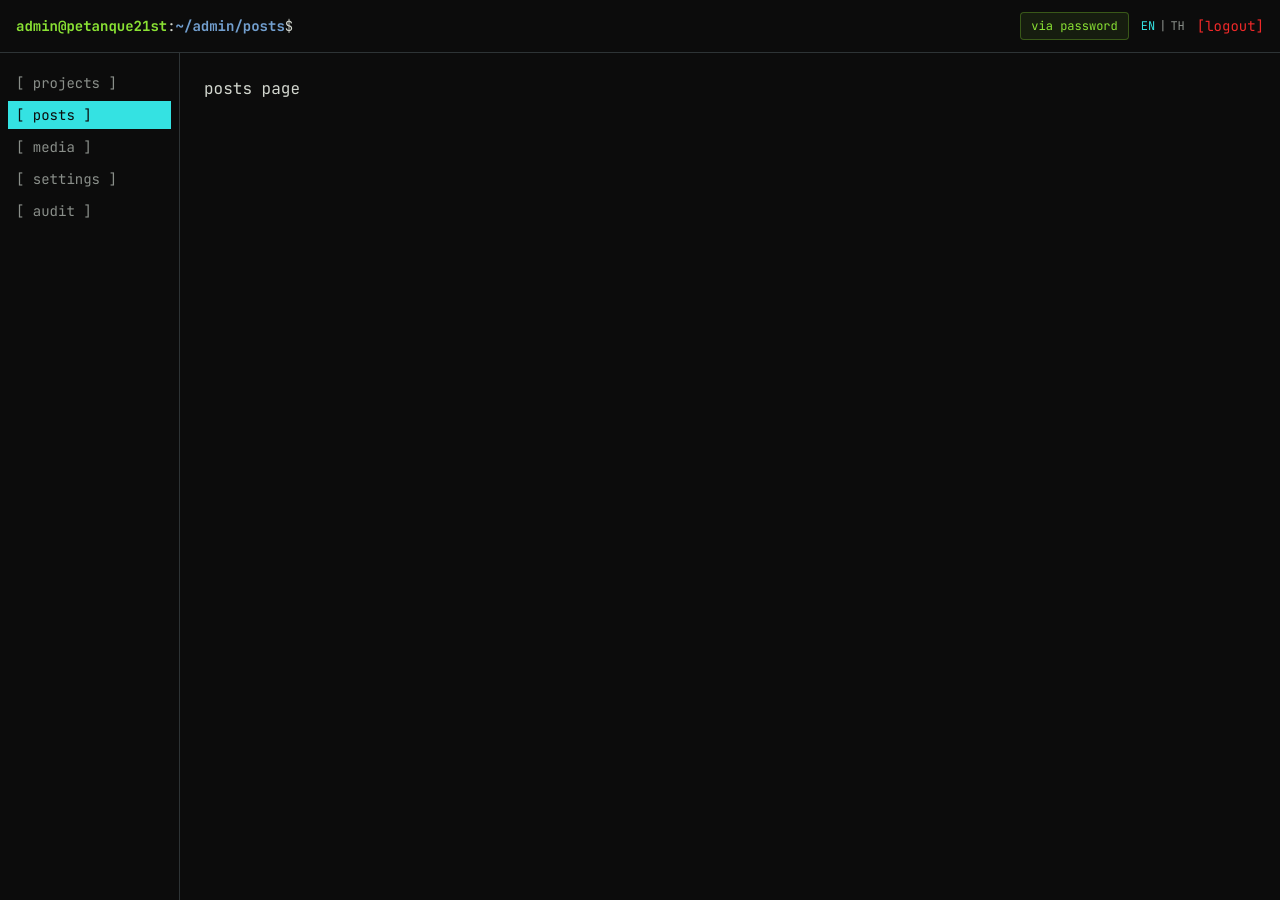
Test: stays in place and shows an error when logout fails server-side
This screenshot has width=1280, height=900.
Click the button "[logout]". click: (1230, 26)
box: [1197,16,1264,36]
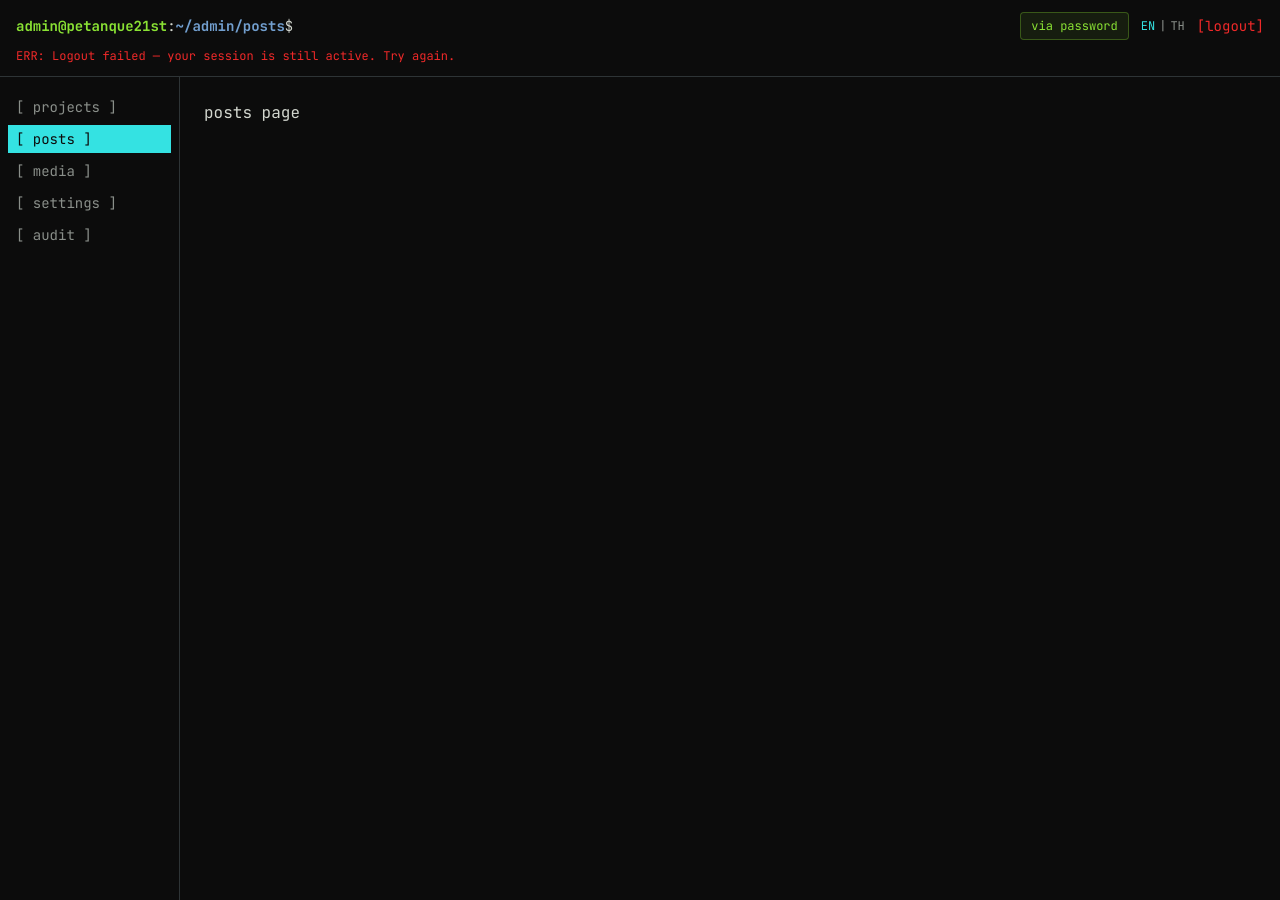
expect the text "posts page" is shown: met, box [204,102,300,123]
expect the message shows "Logout failed": met, box [52,48,455,64]
